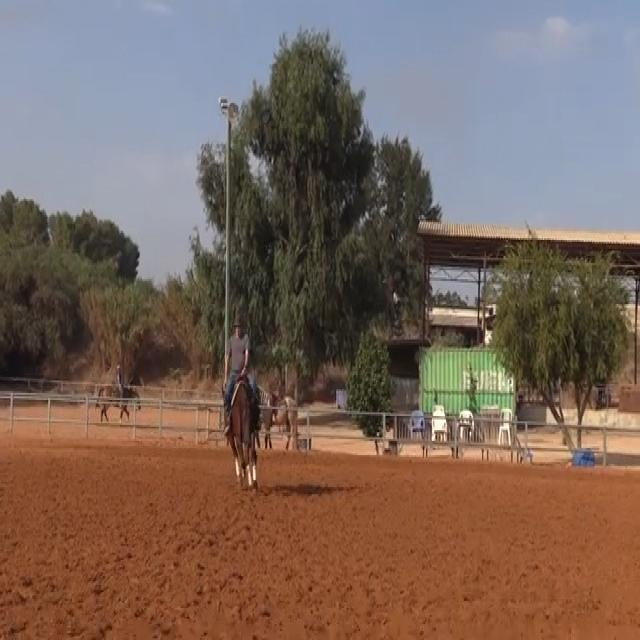horse: (221, 370, 261, 492)
